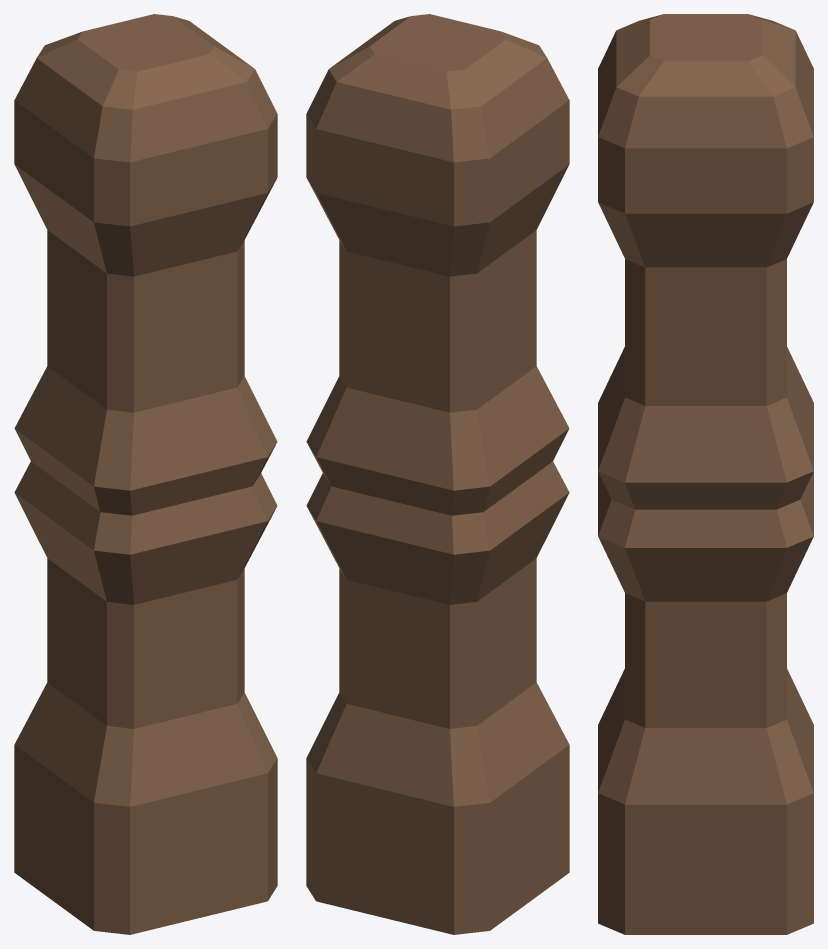
File: Structure_Stairs_Railing_Post.obj
The picture shows the model from 3 angles, left to right: view 1: azimuth 30°, elevation 25°; view 2: azimuth 150°, elevation 25°; view 3: azimuth 270°, elevation 25°; orthographic projection.
Visible parts, largest first — view 1: object1; view 2: object1; view 3: object1.
Part boxes in pixels (left/top/right/bottom): object1: left=14, top=14, right=277, bottom=934; object1: left=306, top=14, right=569, bottom=934; object1: left=598, top=14, right=813, bottom=934.
Size of the model in its own units: 0.15 by 0.6531 by 0.15.
